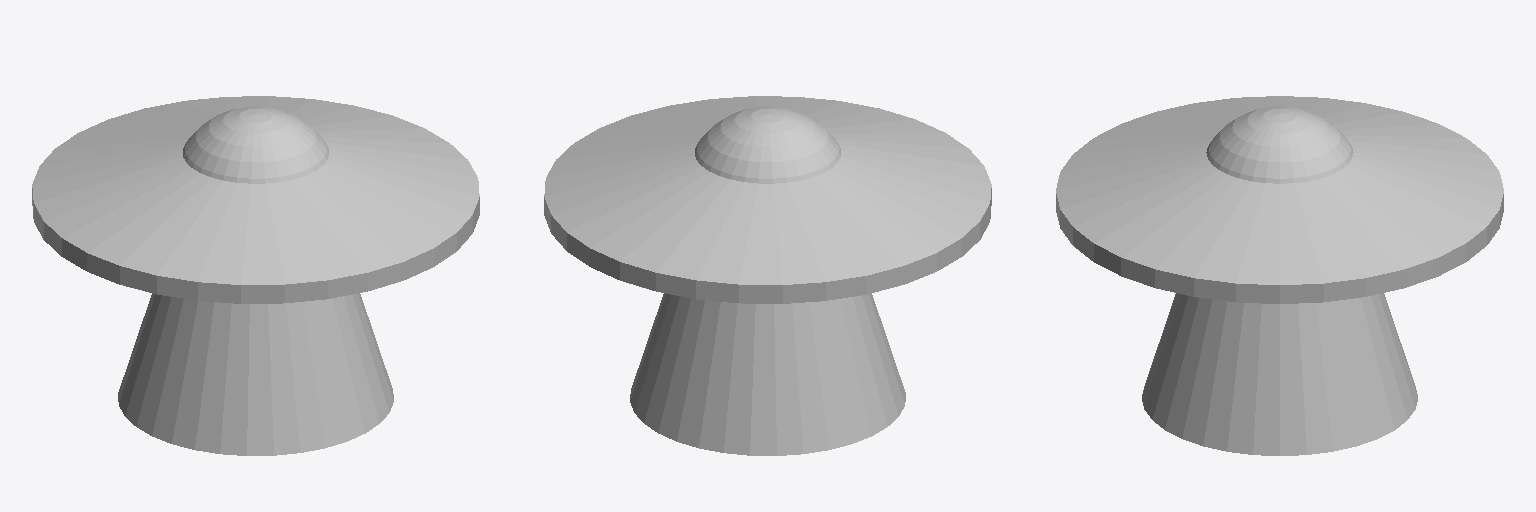
File: ufo.obj
3 renders of one model, left to right at view 1: azimuth 30°, elevation 25°; view 2: azimuth 150°, elevation 25°; view 3: azimuth 270°, elevation 25°, orthographic.
Parts seen in each view (by area): view 1: Cylinder, Cylinder.001; view 2: Cylinder, Cylinder.001; view 3: Cylinder, Cylinder.001.
Boxes of the visible parts, box(x1,y1,x2,y2) form: Cylinder: box(32, 96, 479, 303); Cylinder.001: box(118, 106, 393, 455); Cylinder: box(544, 96, 991, 303); Cylinder.001: box(630, 106, 905, 455); Cylinder: box(1056, 96, 1503, 303); Cylinder.001: box(1142, 106, 1417, 455).
Size of the model in its own units: 4.23 by 2.95 by 4.23.